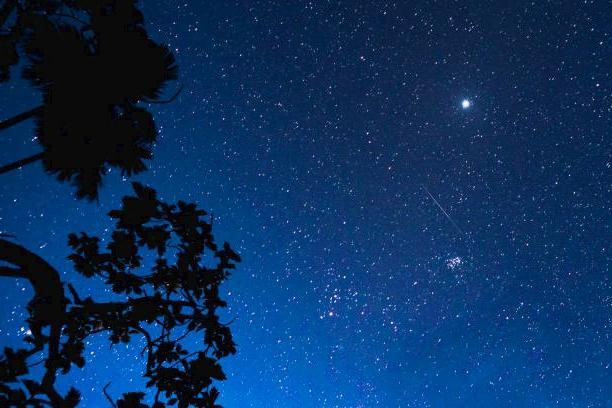meteorite: (402, 163, 465, 239)
